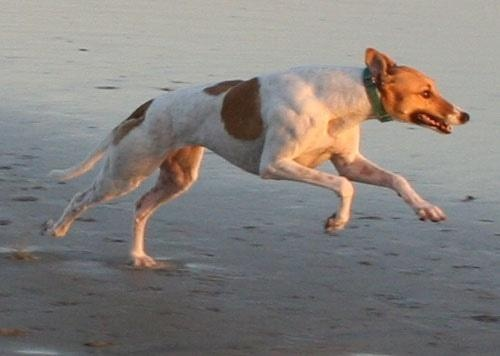dog: (43, 46, 468, 270)
